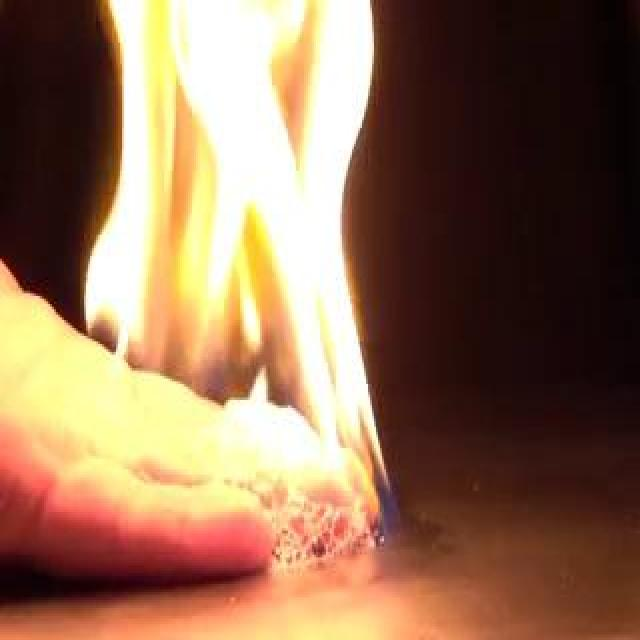Fire: (78, 2, 388, 554)
